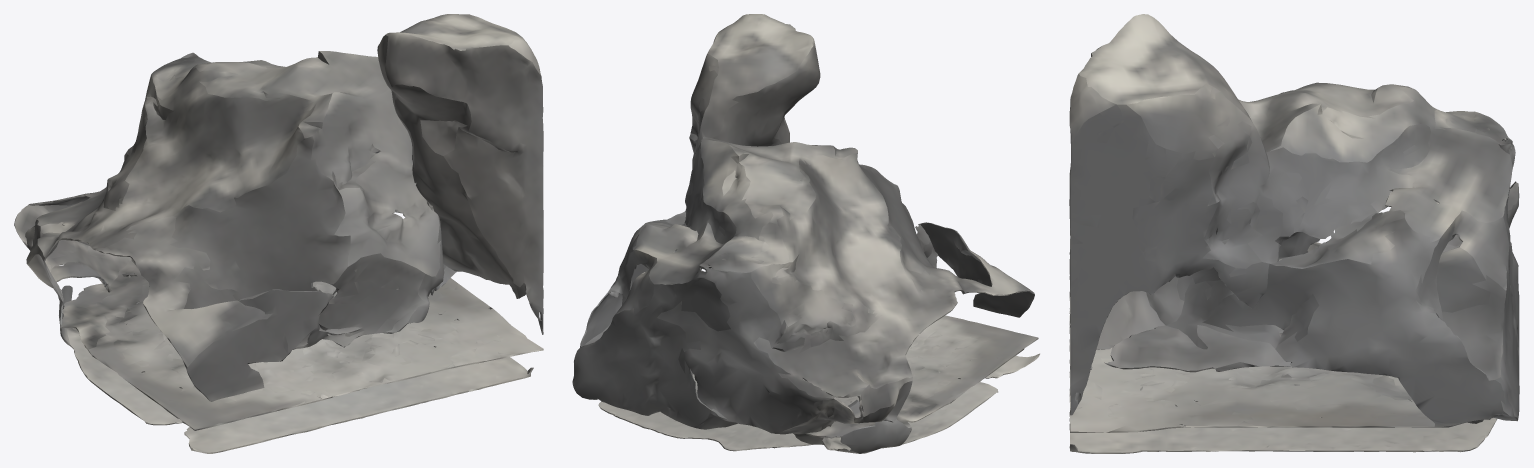
3 views of the same model, side by side, from view 1: azimuth 30°, elevation 25°; view 2: azimuth 150°, elevation 25°; view 3: azimuth 270°, elevation 25° (orthographic). The views are drawn at different scales.
Parts seen in each view (by area): view 1: world; view 2: world; view 3: world.
Boxes of the visible parts, x1=… form: world: x1=14, y1=14, x2=543, y2=453; world: x1=572, y1=14, x2=1039, y2=453; world: x1=1069, y1=14, x2=1519, y2=453.
Size of the model in its own units: 0.35 by 0.3312 by 0.3507.
1 material, 1 textured.
